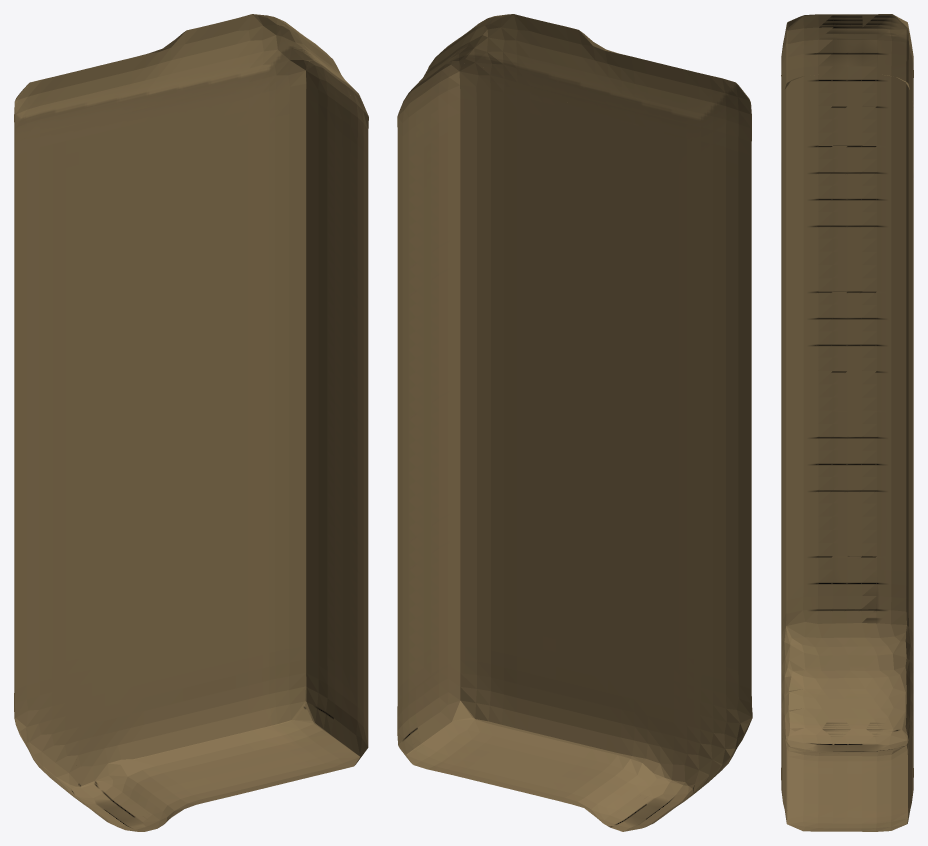
The picture shows the model from 3 angles, left to right: view 1: azimuth 30°, elevation 25°; view 2: azimuth 150°, elevation 25°; view 3: azimuth 270°, elevation 25°; orthographic projection. The views are drawn at different scales.
Visible parts, largest first — view 1: model; view 2: model; view 3: model.
Boxes of the visible parts, box(x1,y1,x2,y2) form: model: box(14, 14, 368, 831); model: box(397, 14, 752, 831); model: box(781, 14, 913, 831).
Bounding box in the file's own units: 0.4292 × 1 × 0.1677.
Materials: 1 (1 with a texture image).
